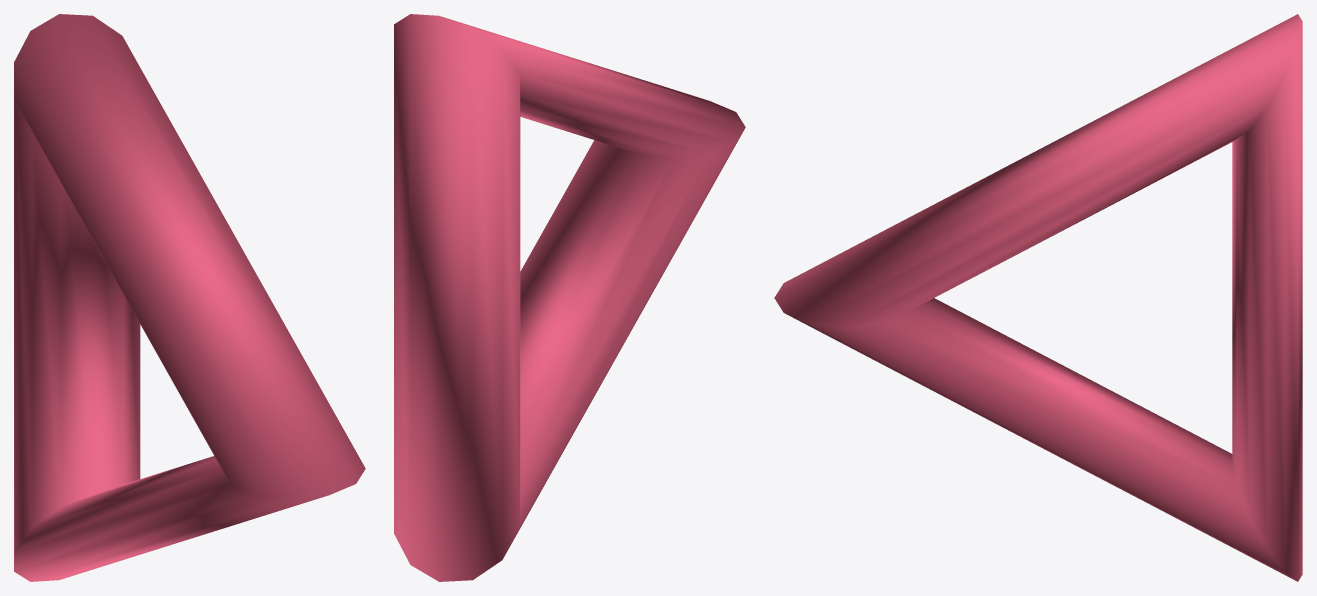
File: torus_triangle.fbx
The picture shows the model from 3 angles, left to right: view 1: azimuth 30°, elevation 25°; view 2: azimuth 150°, elevation 25°; view 3: azimuth 270°, elevation 25°; orthographic projection. The views are drawn at different scales.
Parts seen in each view (by area): view 1: Torus; view 2: Torus; view 3: Torus.
Part boxes in pixels (<box>): Torus: <box>14,14,365,581</box>; Torus: <box>394,14,745,581</box>; Torus: <box>774,14,1302,581</box>.
Size of the model in its own units: 50 by 217 by 187.
